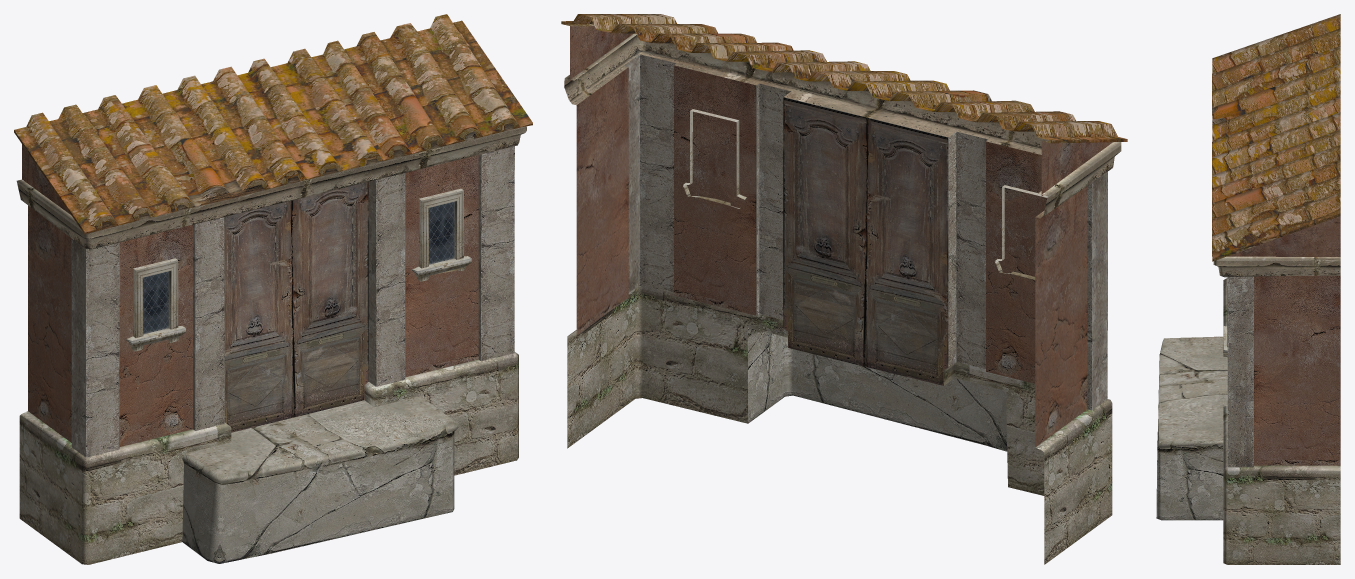
File: Basic14.fbx
3 views of the same model, side by side, from view 1: azimuth 30°, elevation 25°; view 2: azimuth 150°, elevation 25°; view 3: azimuth 270°, elevation 25° (orthographic). The views are drawn at different scales.
Parts seen in each view (by area): view 1: LV_Campagna_City_CommonDoor02B_SM_CNH; view 2: LV_Campagna_City_CommonDoor02B_SM_CNH; view 3: LV_Campagna_City_CommonDoor02B_SM_CNH.
Boxes of the visible parts, x1=… form: LV_Campagna_City_CommonDoor02B_SM_CNH: x1=14, y1=14, x2=532, y2=564; LV_Campagna_City_CommonDoor02B_SM_CNH: x1=561, y1=14, x2=1127, y2=564; LV_Campagna_City_CommonDoor02B_SM_CNH: x1=1156, y1=14, x2=1340, y2=564.
Bounding box in the file's own units: 1.28 × 1.09 × 0.5021.
3 materials, 3 textured.
